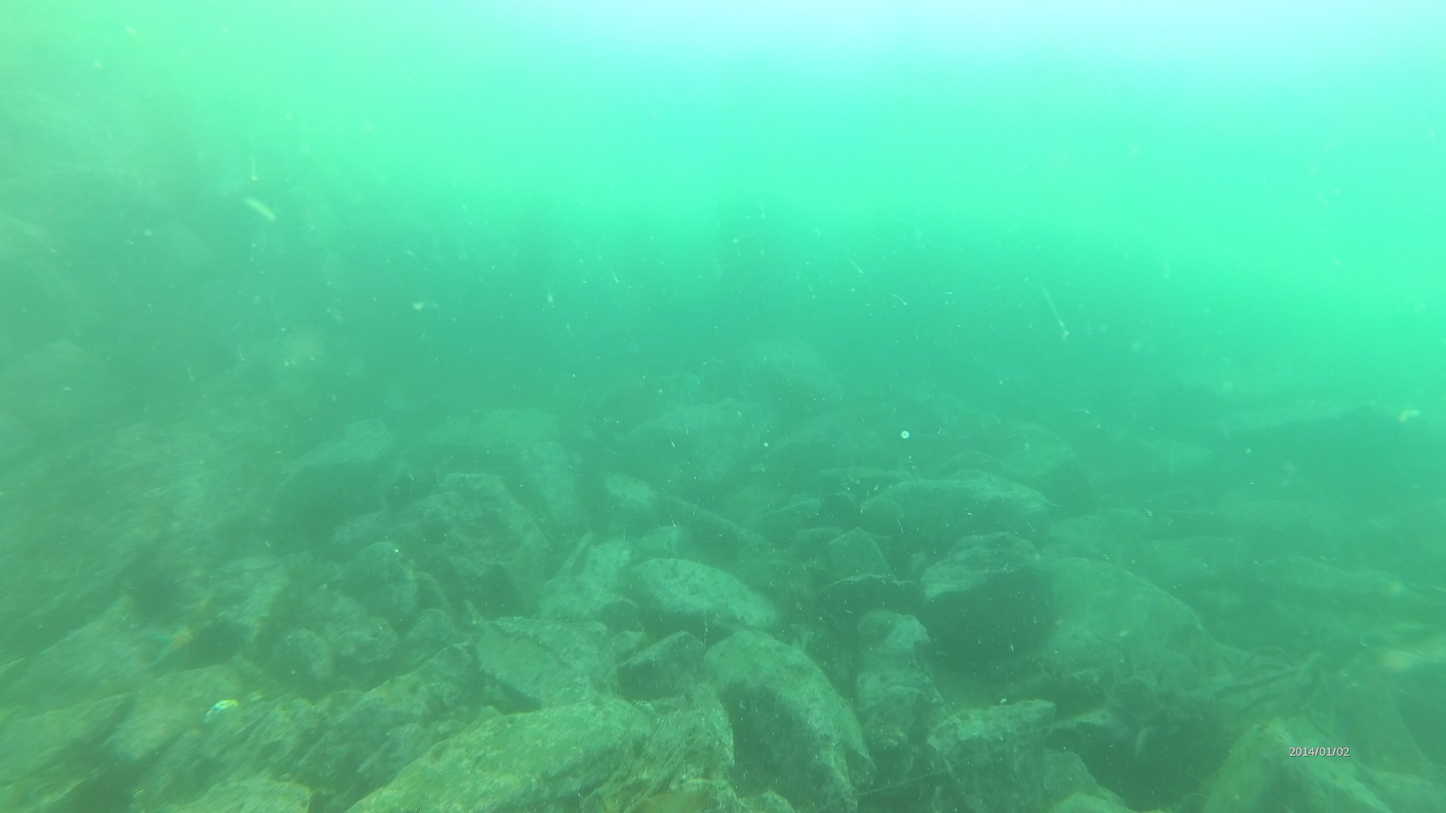holothurian: (149, 619, 201, 671)
starfish: (128, 562, 191, 615), (192, 616, 246, 665)
